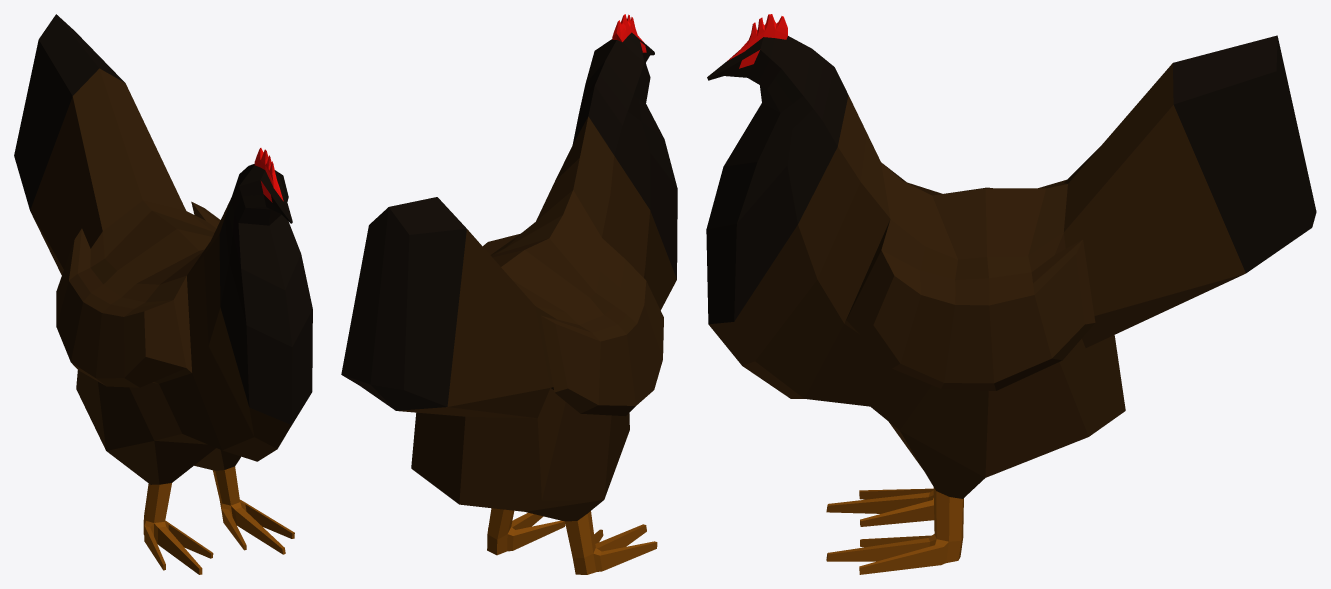
File: chicken.fbx
The picture shows the model from 3 angles, left to right: view 1: azimuth 30°, elevation 25°; view 2: azimuth 150°, elevation 25°; view 3: azimuth 270°, elevation 25°; orthographic projection. The views are drawn at different scales.
Visible parts, largest first — view 1: Cube; view 2: Cube; view 3: Cube.
Boxes of the visible parts, x1,y1,x2,y2 form: Cube: [14, 14, 312, 574]; Cube: [341, 14, 677, 574]; Cube: [706, 14, 1316, 574].
Bounding box in the file's own units: 177 × 355 × 376.
1 material, 1 textured.
